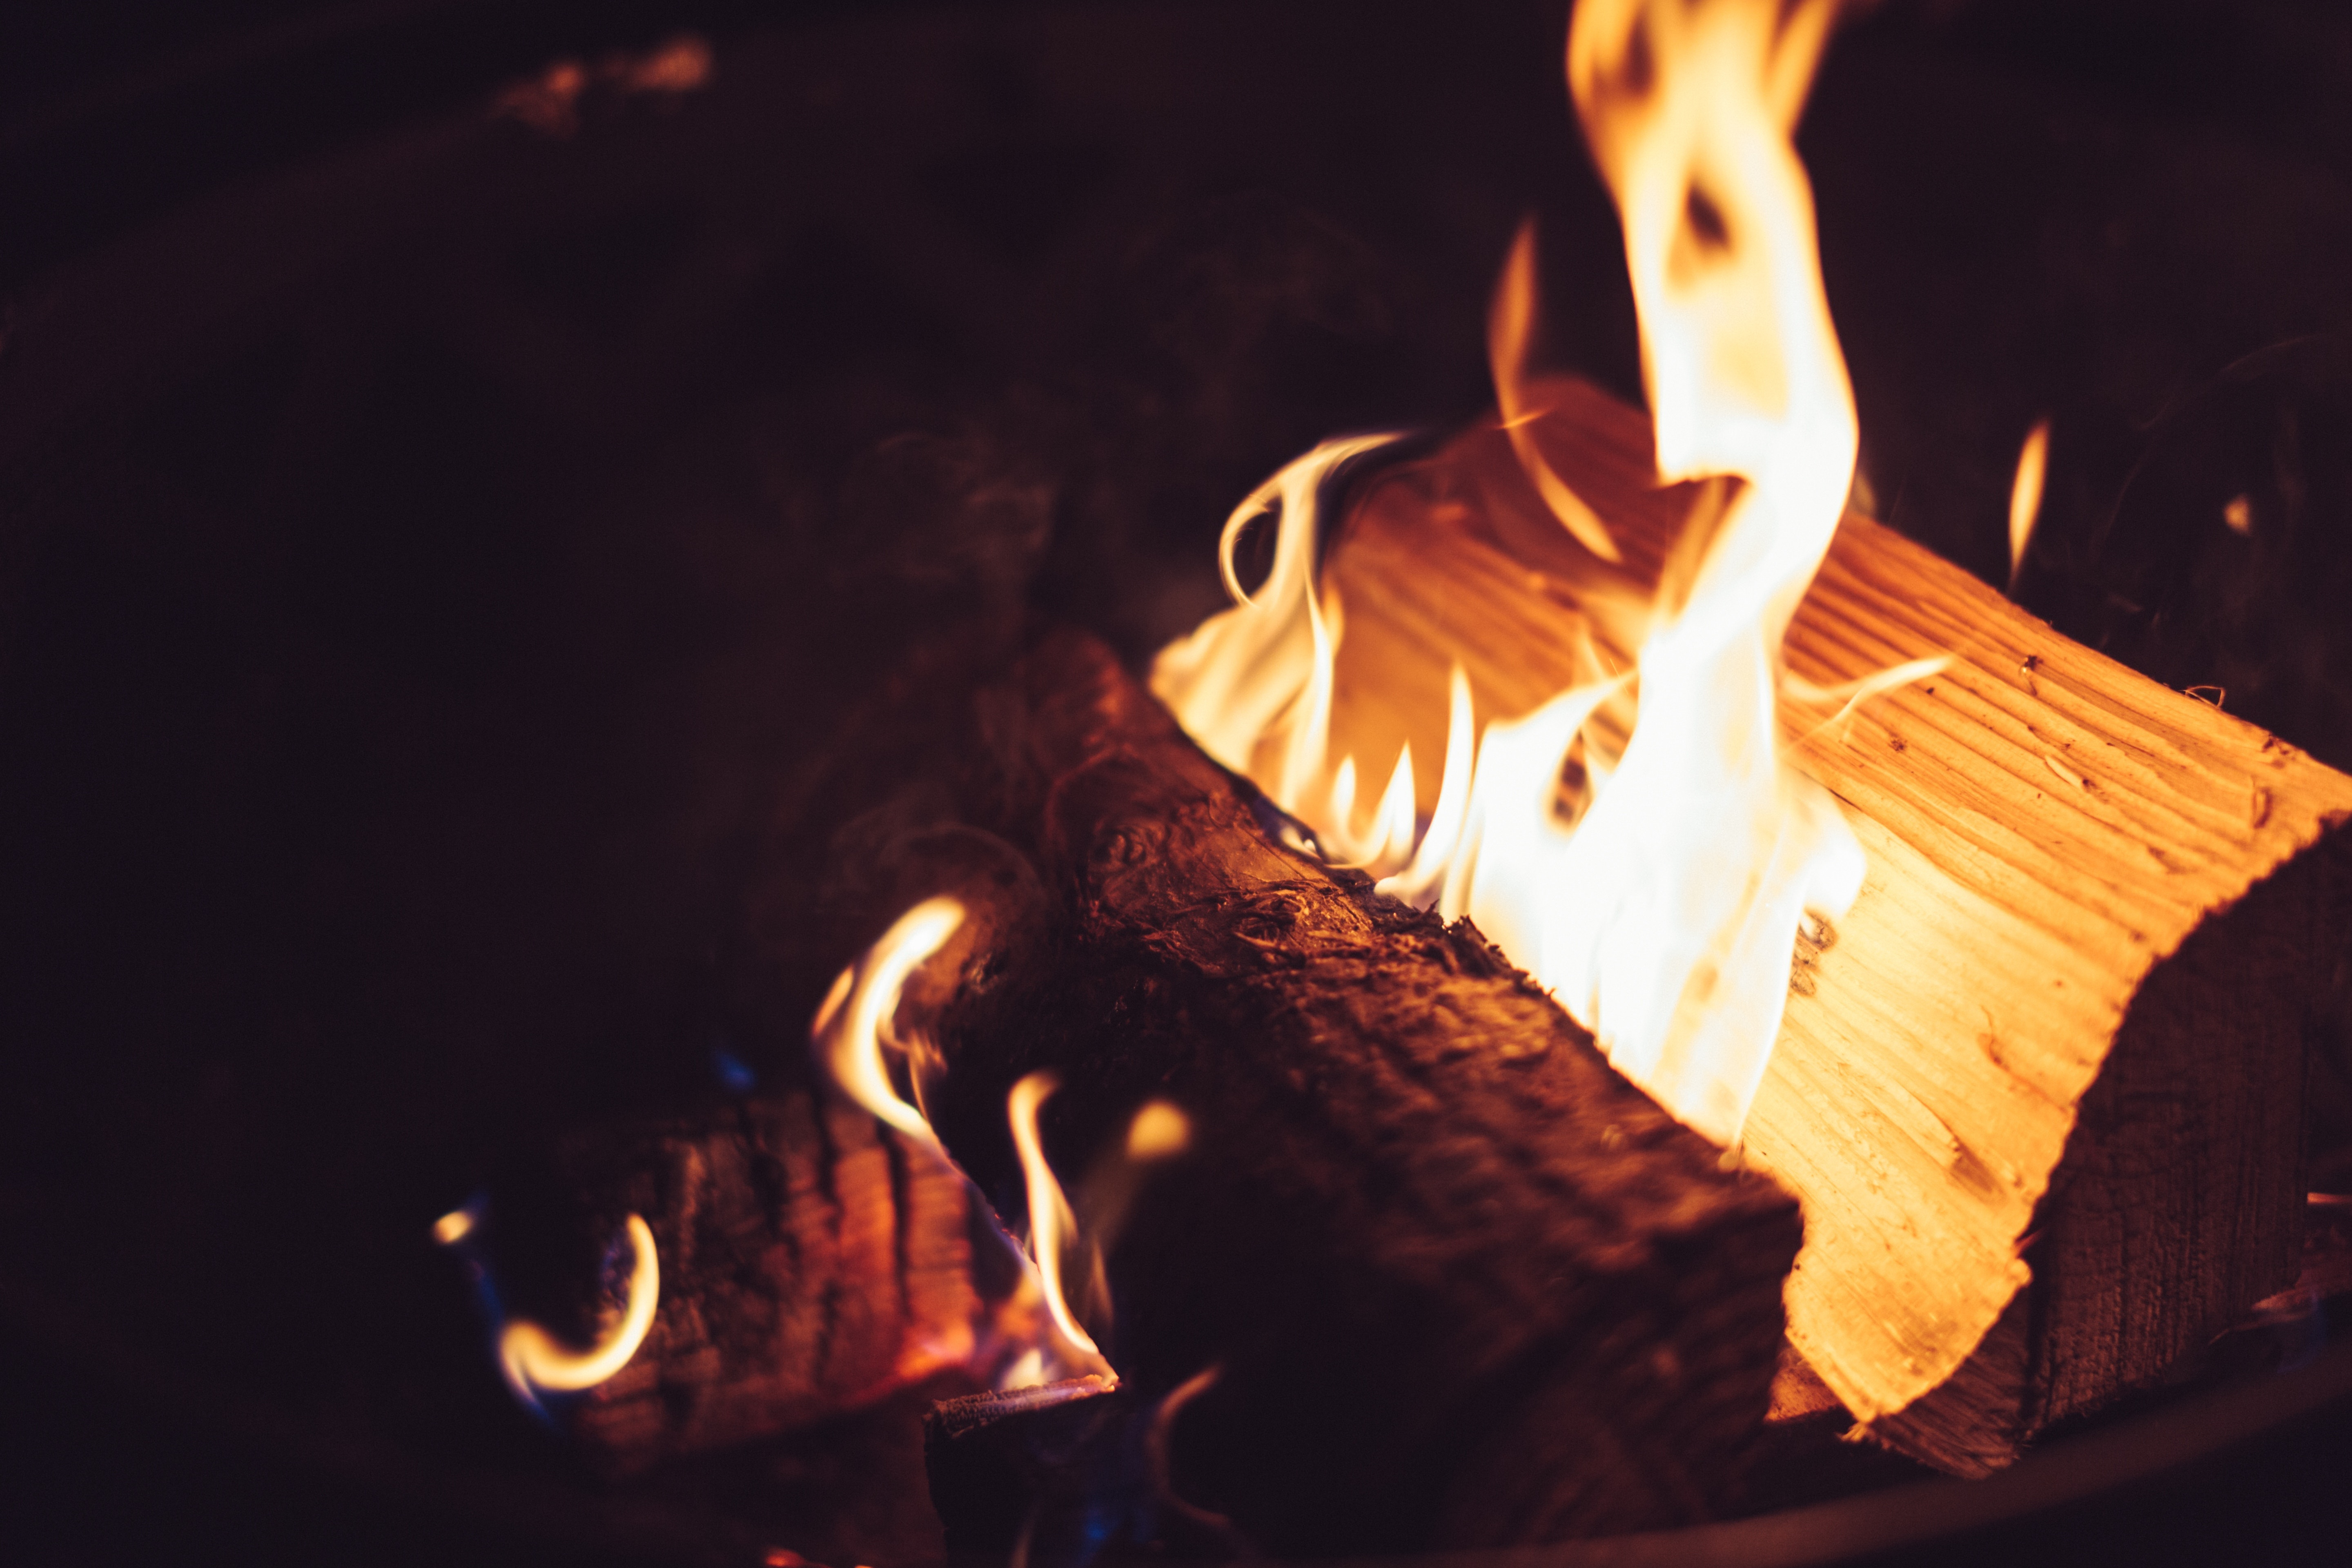fire: (1167, 0, 1942, 1281), (502, 892, 1146, 1417)
